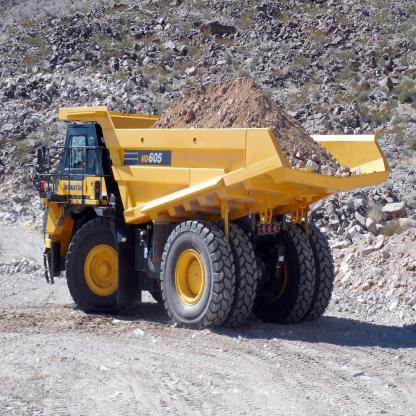dump_truck: (36, 96, 386, 343)
